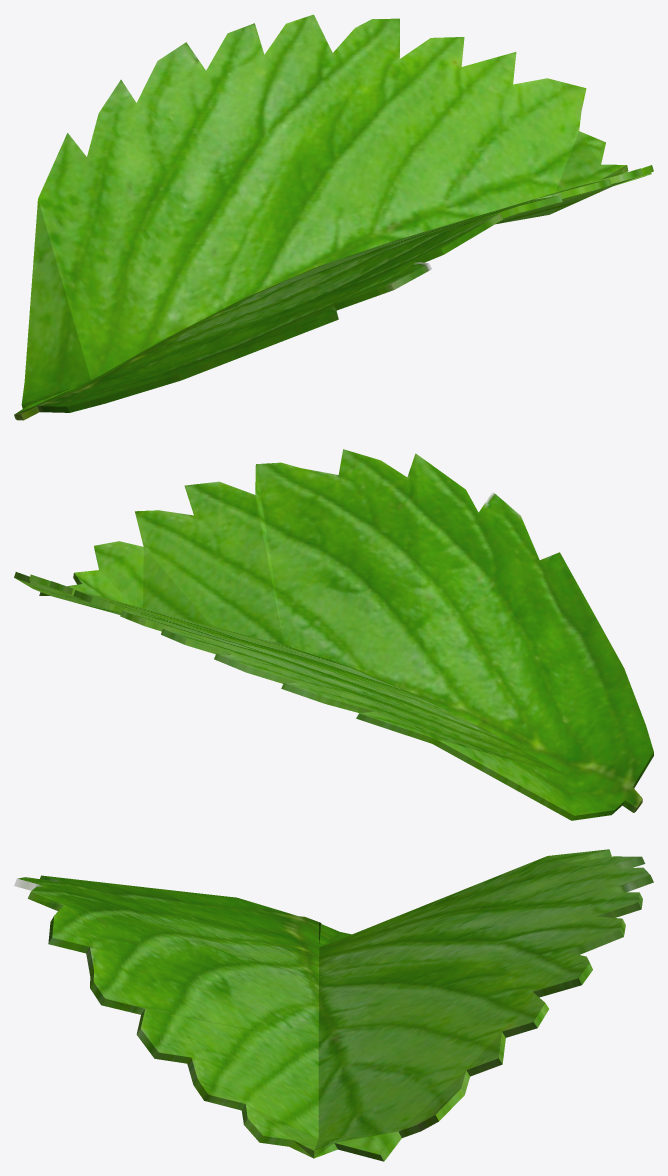
The model's file is leaf1.dae.
3 views of the same model, one above another, from view 1: azimuth 30°, elevation 25°; view 2: azimuth 150°, elevation 25°; view 3: azimuth 270°, elevation 25° (orthographic). The views are drawn at different scales.
Parts seen in each view (by area): view 1: Plane; view 2: Plane; view 3: Plane.
Boxes of the visible parts, x1,y1,x2,y2 form: Plane: (14, 14, 653, 420); Plane: (14, 449, 653, 820); Plane: (14, 849, 653, 1161).
Size of the model in its own units: 0.1327 by 0.101 by 0.0426.
Materials: 1 (1 with a texture image).
